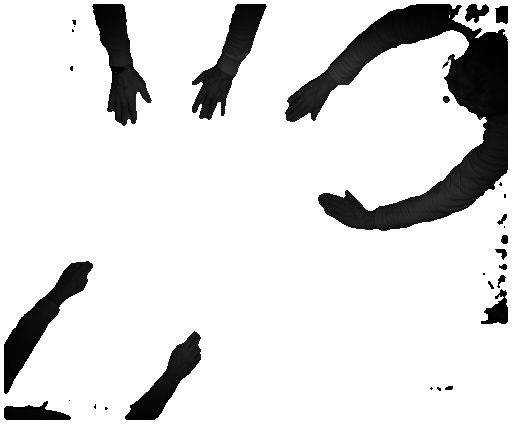hand: (280, 78, 334, 127), (312, 185, 368, 231), (104, 73, 151, 127), (167, 328, 207, 383), (192, 71, 237, 119), (57, 256, 95, 304)
